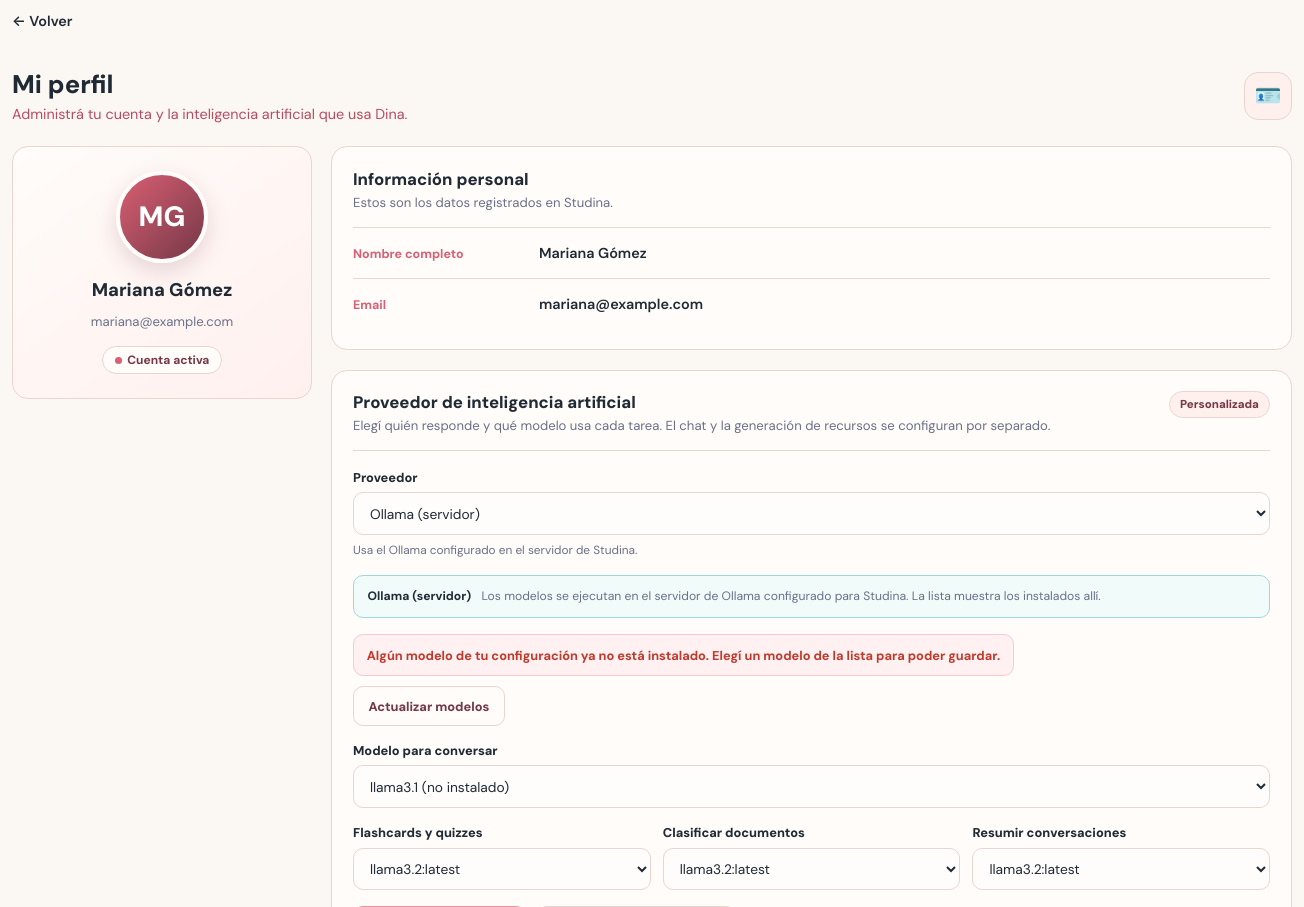
ProfilePage AI settings › conserva un modelo eliminado como no disponible hasta que el usuario elige otro
Expected: the message shows "ya no está instalado", [367,646,1000,664]
Select "qwen2.5:7b" in the dropdown labelled "Modelo para conversar" at (812, 787), box [353,766,1270,808]
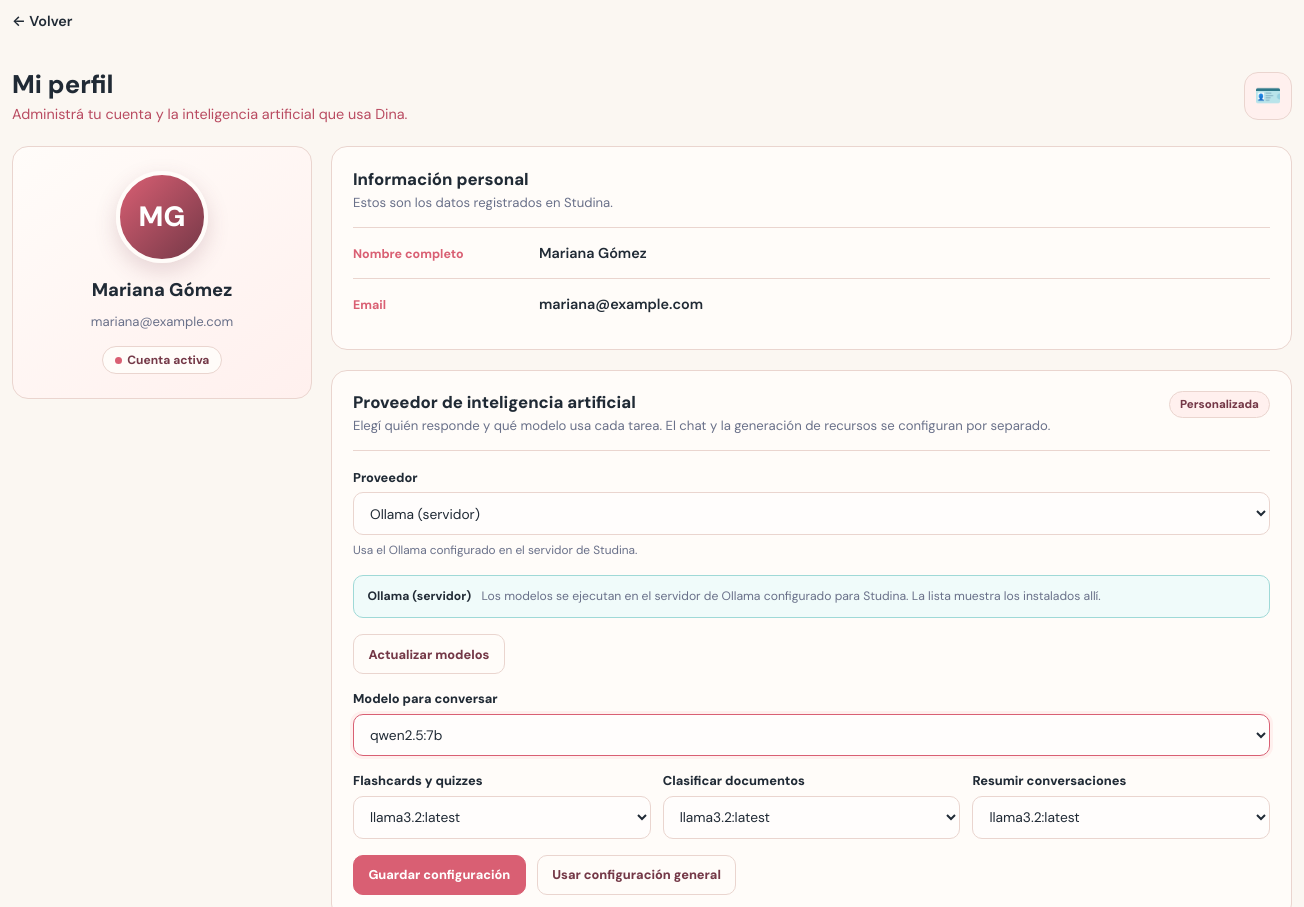
Expected: the button "Guardar configuración" is enabled, [353,855,526,895]
Expected: the message is gone
